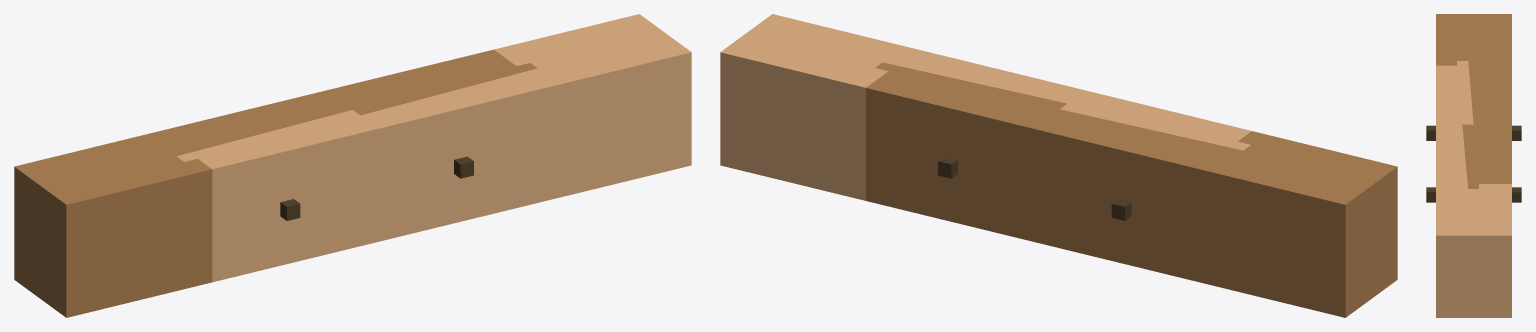
The model's file is Kanawatsugi.glb.
3 views of the same model, side by side, from view 1: azimuth 30°, elevation 25°; view 2: azimuth 150°, elevation 25°; view 3: azimuth 270°, elevation 25° (orthographic). The views are drawn at different scales.
Parts seen in each view (by area): view 1: FamilyInstance Modelos genéricos Okkake1 <338124 Okkake<, FamilyInstance Modelos genéricos Okkake2 <341614 Okkake<; view 2: FamilyInstance Modelos genéricos Okkake2 <341614 Okkake<, FamilyInstance Modelos genéricos Okkake1 <338124 Okkake<; view 3: FamilyInstance Modelos genéricos Okkake1 <338124 Okkake<, FamilyInstance Modelos genéricos Okkake2 <341614 Okkake<, FamilyInstance Modelos genéricos Okkake - Cavilha1 <339848 O, FamilyInstance Modelos genéricos Okkake - Cavilha2 <340840 O.
Boxes of the visible parts, x1,y1,x2,y2 form: FamilyInstance Modelos genéricos Okkake1 <338124 Okkake<: (177,14,691,282); FamilyInstance Modelos genéricos Okkake2 <341614 Okkake<: (14,49,537,317); FamilyInstance Modelos genéricos Okkake2 <341614 Okkake<: (866,62,1397,317); FamilyInstance Modelos genéricos Okkake1 <338124 Okkake<: (720,14,1251,200); FamilyInstance Modelos genéricos Okkake1 <338124 Okkake<: (1436,61,1511,317); FamilyInstance Modelos genéricos Okkake2 <341614 Okkake<: (1436,14,1511,188); FamilyInstance Modelos genéricos Okkake - Cavilha1 <339848 O: (1426,187,1521,202); FamilyInstance Modelos genéricos Okkake - Cavilha2 <340840 O: (1426,125,1521,140).
Bounding box in the file's own units: 8.36 × 1.45 × 1.51.
